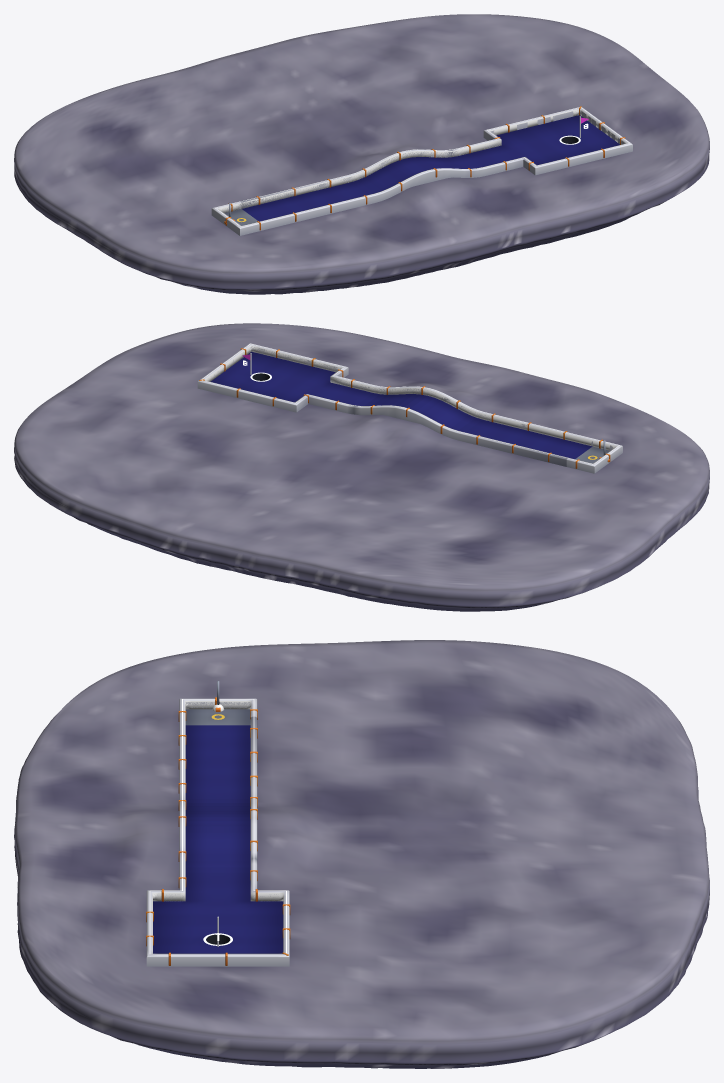
File: course-13.glb
3 renders of one model, top to bottom at view 1: azimuth 30°, elevation 25°; view 2: azimuth 150°, elevation 25°; view 3: azimuth 270°, elevation 25°, orthographic. The views are drawn at different scales.
Visible parts, largest first — view 1: scenery-matte, floor-felt, rail-trim, rail-metal; view 2: scenery-matte, floor-felt, rail-trim, rail-metal; view 3: scenery-matte, floor-felt, rail-trim, rail-metal, floor-metal.
Part boxes in pixels (x1,y1,x2,y2): scenery-matte: (14, 14, 709, 294); floor-felt: (242, 115, 619, 221); rail-trim: (211, 106, 632, 235); rail-metal: (218, 109, 626, 225); scenery-matte: (14, 323, 709, 611); floor-felt: (210, 351, 592, 459); rail-trim: (197, 343, 622, 473); rail-metal: (204, 345, 616, 463); scenery-matte: (14, 640, 709, 1068); floor-felt: (153, 725, 283, 953); rail-trim: (146, 697, 290, 966); rail-metal: (152, 701, 283, 953); floor-metal: (185, 709, 250, 725).
Bounding box in the file's own units: 24.98 × 4.06 × 18.4.
